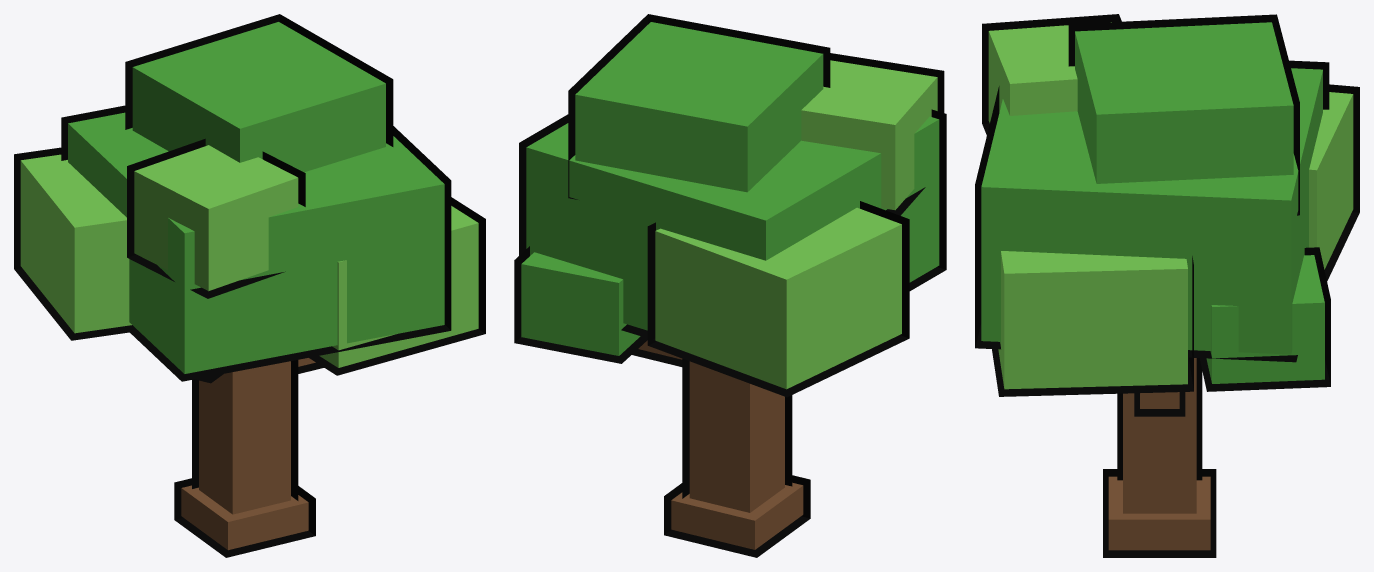
The model's file is Tree.fbx.
3 renders of one model, left to right at view 1: azimuth 30°, elevation 25°; view 2: azimuth 150°, elevation 25°; view 3: azimuth 270°, elevation 25°, orthographic. The views are drawn at different scales.
Visible parts, largest first — view 1: Tree_Leaves, Tree_LeavesLight, Tree_Outline, Tree_Trunk; view 2: Tree_Leaves, Tree_LeavesLight, Tree_Outline, Tree_Trunk; view 3: Tree_Leaves, Tree_LeavesLight, Tree_Outline, Tree_Trunk.
Boxes of the visible parts, <box> form: Tree_Leaves: <box>68,22,444,373</box>; Tree_LeavesLight: <box>20,145,478,367</box>; Tree_Outline: <box>14,14,485,557</box>; Tree_Trunk: <box>181,358,315,550</box>; Tree_Leaves: <box>521,22,939,355</box>; Tree_LeavesLight: <box>655,60,937,389</box>; Tree_Outline: <box>514,14,946,557</box>; Tree_Trunk: <box>638,340,803,549</box>; Tree_Leaves: <box>981,22,1324,383</box>; Tree_LeavesLight: <box>988,22,1353,389</box>; Tree_Outline: <box>975,14,1359,557</box>; Tree_Trunk: <box>1108,358,1210,550</box>.
Size of the model in its own units: 15.03 by 18.87 by 13.58.
4 materials, 4 textured.
